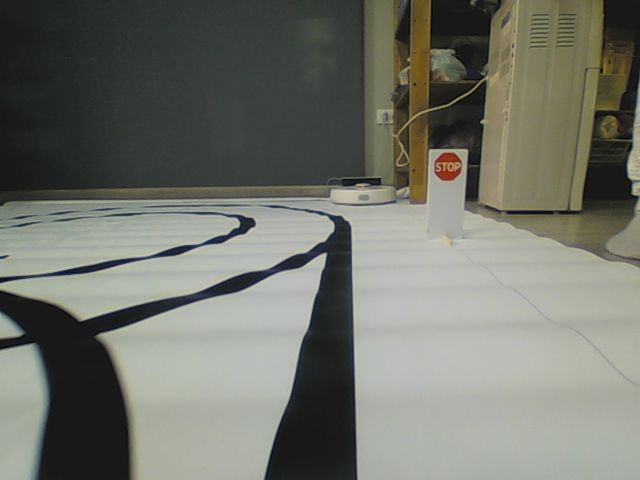Stop: (434, 151, 463, 182)
